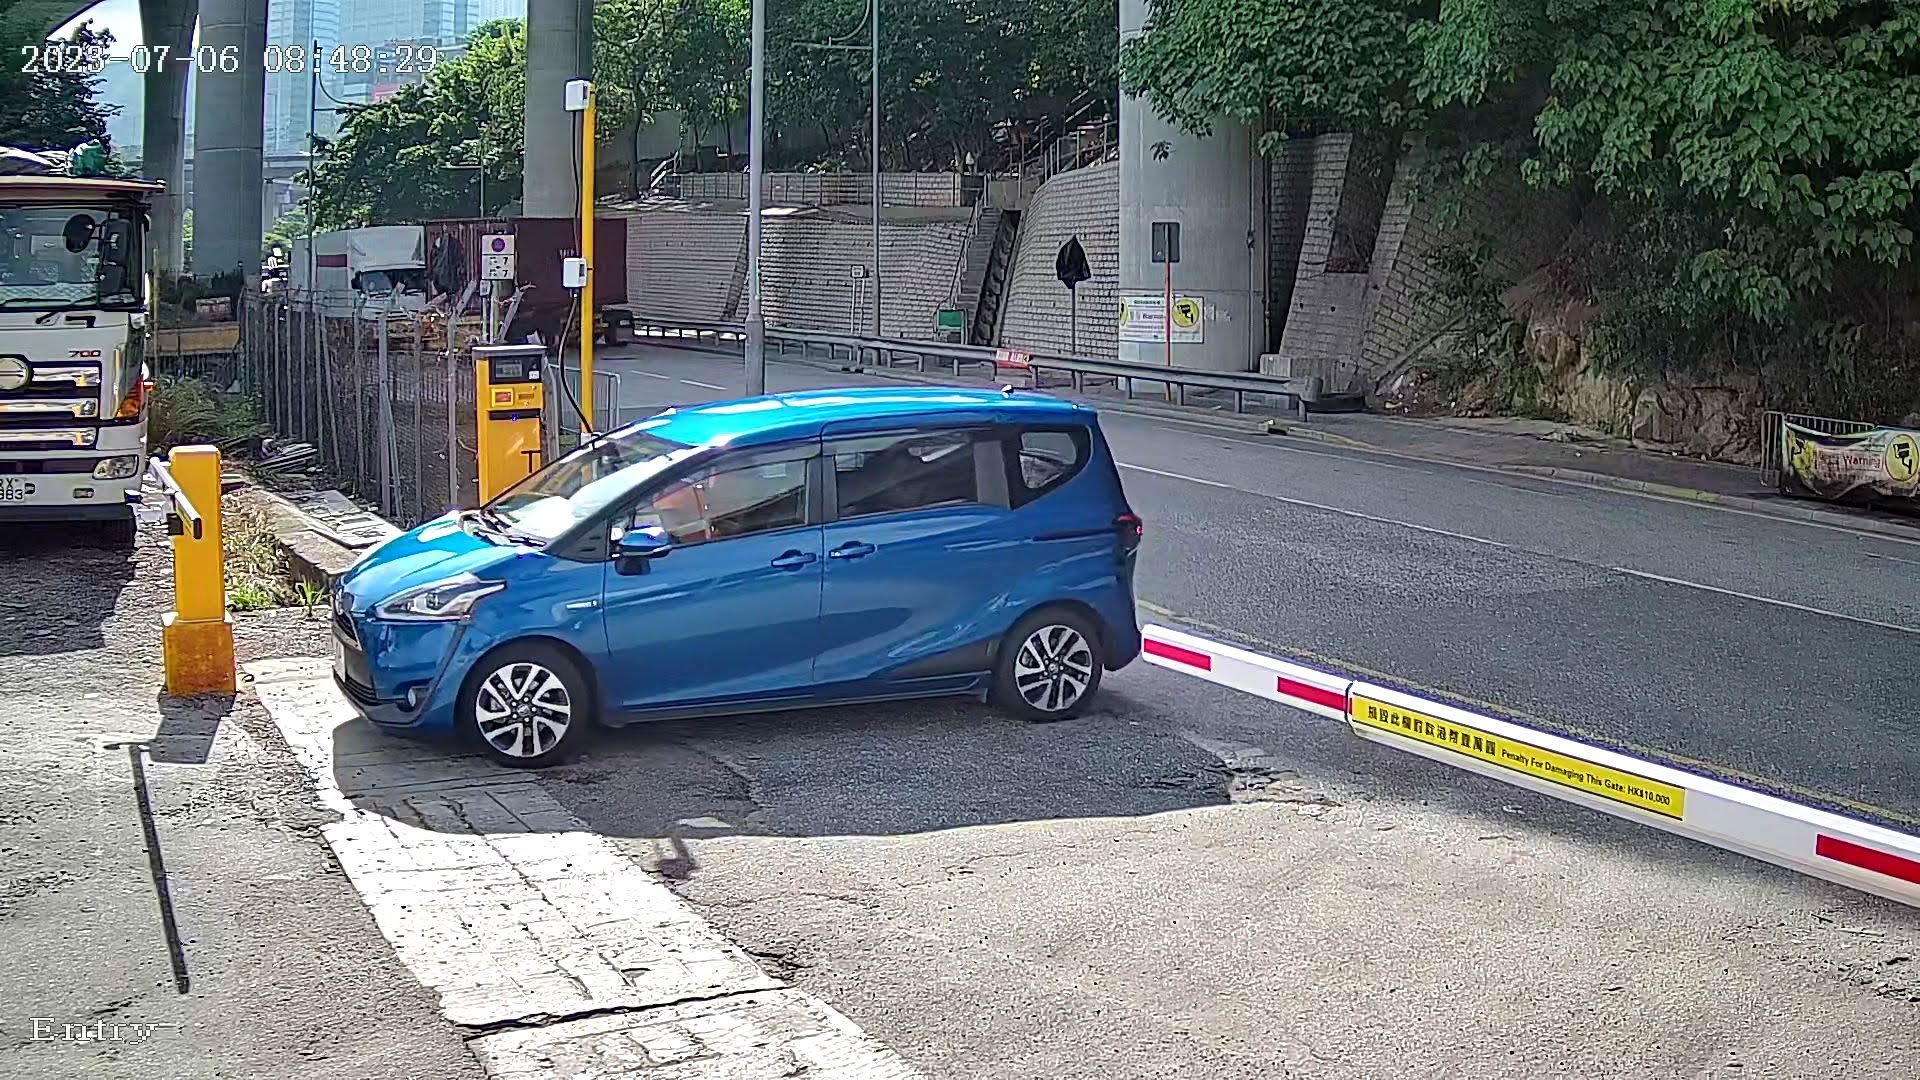privatecar: (320, 364, 1168, 789)
